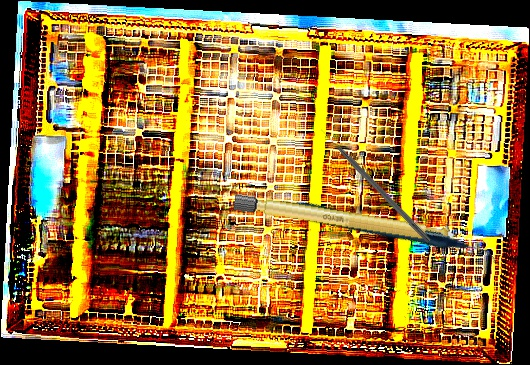Handpiece: (275, 120, 497, 348)
Hook Surgical: (318, 126, 433, 244)
Scalpel Handle: (233, 193, 458, 246)
